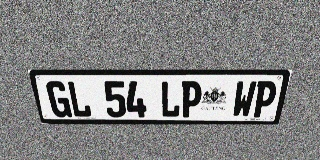4: (125, 81, 147, 117)
5: (103, 81, 127, 117)
G: (45, 81, 72, 117)
L: (66, 81, 92, 117), (161, 81, 181, 117)
P: (251, 81, 279, 117), (180, 81, 203, 117)
W: (231, 81, 257, 117)
